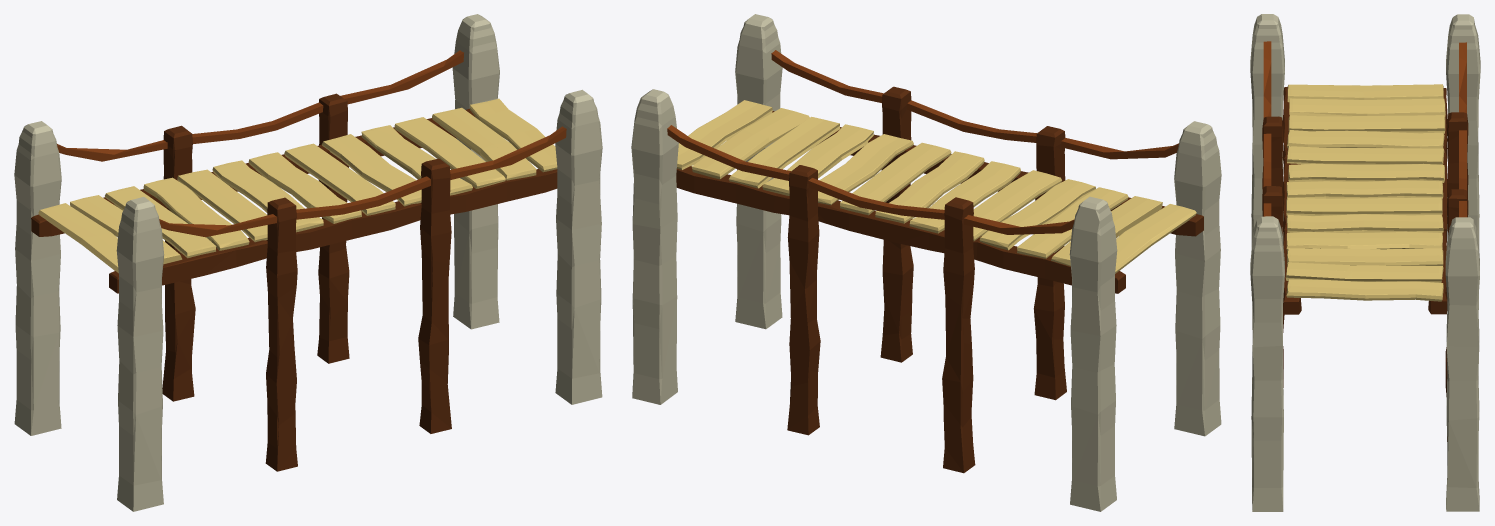
The model's file is Steg.fbx.
3 views of the same model, side by side, from view 1: azimuth 30°, elevation 25°; view 2: azimuth 150°, elevation 25°; view 3: azimuth 270°, elevation 25° (orthographic). The views are drawn at different scales.
Visible parts, largest first — view 1: Cube.004; view 2: Cube.004; view 3: Cube.004.
Part boxes in pixels (x1=…): Cube.004: x1=14, y1=14, x2=602, y2=511; Cube.004: x1=631, y1=14, x2=1221, y2=511; Cube.004: x1=1250, y1=14, x2=1480, y2=511.
Size of the model in its own units: 3290 by 2014 by 1472.
